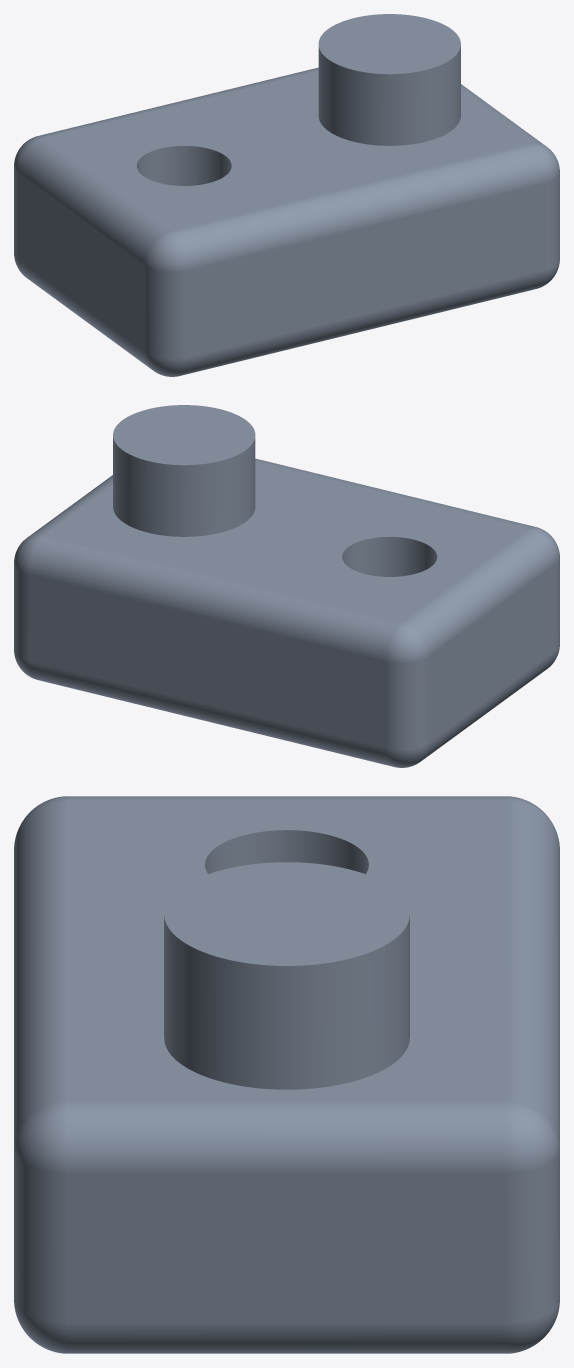
Rendered from after.glb.
3 views of the same model, one above another, from view 1: azimuth 30°, elevation 25°; view 2: azimuth 150°, elevation 25°; view 3: azimuth 270°, elevation 25° (orthographic). The views are drawn at different scales.
Visible parts, largest first — view 1: part; view 2: part; view 3: part.
Part boxes in pixels (x1,y1,x2,y2): part: (14, 14, 559, 376); part: (14, 405, 559, 767); part: (14, 796, 559, 1353).
Size of the model in its own units: 0.06 by 0.03 by 0.04.
